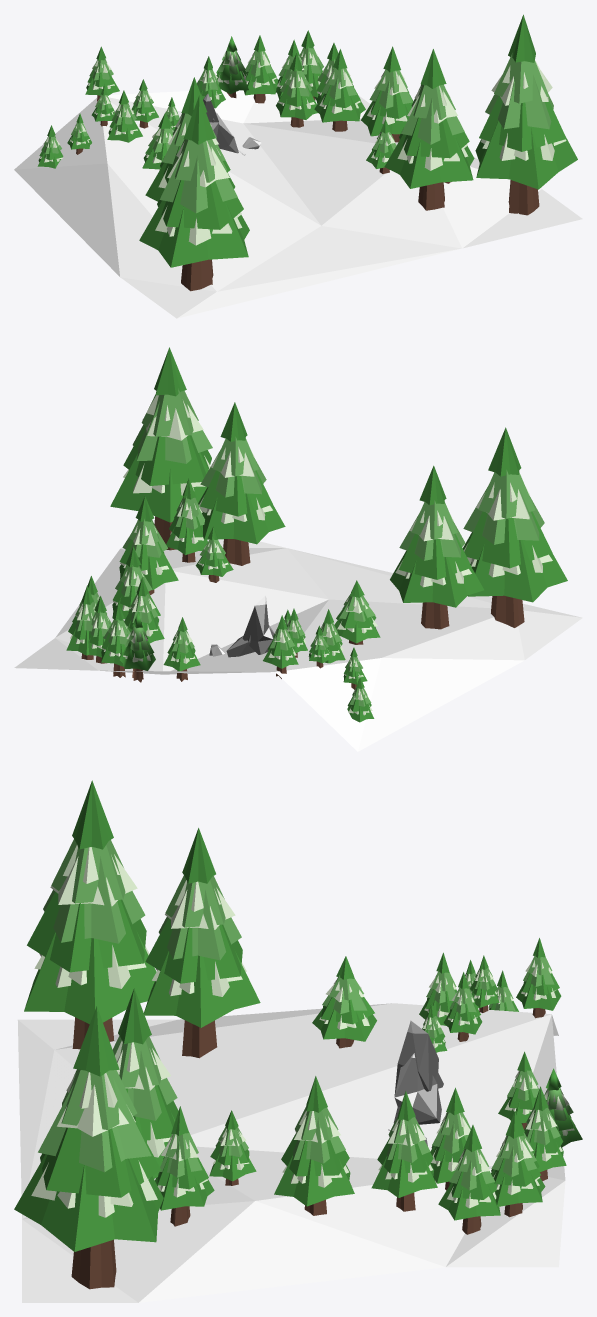
File: SCENE ROCK.fbx
3 views of the same model, one above another, from view 1: azimuth 30°, elevation 25°; view 2: azimuth 150°, elevation 25°; view 3: azimuth 270°, elevation 25° (orthographic). The views are drawn at different scales.
Parts seen in each view (by area): view 1: Plane; view 2: Plane; view 3: Plane.
Boxes of the visible parts, x1,y1,x2,y2 form: Plane: (14, 14, 582, 318); Plane: (14, 347, 582, 751); Plane: (14, 780, 582, 1302).
Size of the model in its own units: 5216 by 2394 by 4304.
